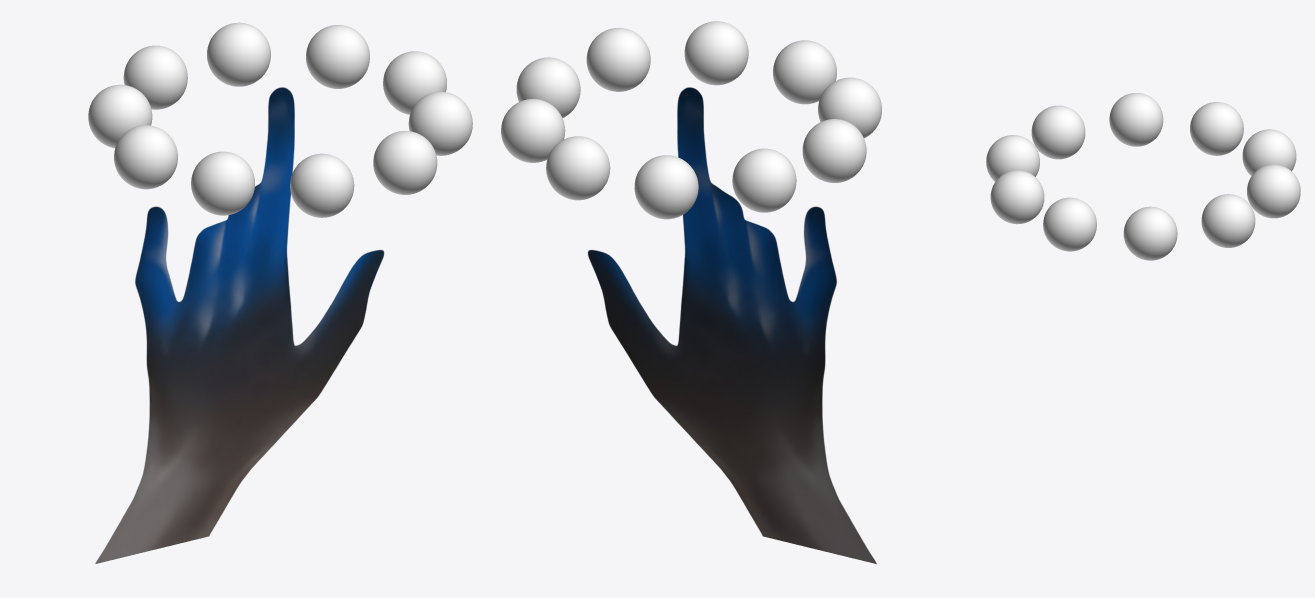
The model's file is stamp2.glb.
The picture shows the model from 3 angles, left to right: view 1: azimuth 30°, elevation 25°; view 2: azimuth 150°, elevation 25°; view 3: azimuth 270°, elevation 25°; orthographic projection. The views are drawn at different scales.
Visible parts, largest first — view 1: 9e0a094d-2dba-4cfd-b0b2-7fcc74c57e31, Sphere_3, Sphere_6, Sphere_4, Sphere_5, Sphere_9, Sphere_10, Sphere_2, Sphere_8, Sphere_7, Sphere_1; view 2: 9e0a094d-2dba-4cfd-b0b2-7fcc74c57e31, Sphere_7, Sphere_8, Sphere_6, Sphere_3, Sphere_9, Sphere_2, Sphere_4, Sphere_10, Sphere_1, Sphere_5; view 3: Sphere_5, Sphere_3, Sphere_1, Sphere_6, Sphere_9, Sphere_2, Sphere_7, Sphere_10, Sphere_4, Sphere_8.
Boxes of the visible parts, x1=… form: 9e0a094d-2dba-4cfd-b0b2-7fcc74c57e31: x1=95, y1=87, x2=384, y2=563; Sphere_3: x1=373, y1=131, x2=437, y2=194; Sphere_6: x1=114, y1=125, x2=177, y2=189; Sphere_4: x1=290, y1=153, x2=354, y2=217; Sphere_5: x1=191, y1=151, x2=254, y2=215; Sphere_9: x1=207, y1=22, x2=270, y2=86; Sphere_10: x1=306, y1=25, x2=369, y2=88; Sphere_2: x1=408, y1=91, x2=472, y2=155; Sphere_8: x1=123, y1=45, x2=187, y2=109; Sphere_7: x1=88, y1=84, x2=152, y2=148; Sphere_1: x1=383, y1=51, x2=446, y2=114; 9e0a094d-2dba-4cfd-b0b2-7fcc74c57e31: x1=588, y1=87, x2=876, y2=563; Sphere_7: x1=732, y1=148, x2=796, y2=212; Sphere_8: x1=634, y1=155, x2=698, y2=219; Sphere_6: x1=802, y1=119, x2=866, y2=182; Sphere_3: x1=684, y1=21, x2=748, y2=85; Sphere_9: x1=546, y1=136, x2=610, y2=200; Sphere_2: x1=586, y1=27, x2=650, y2=91; Sphere_4: x1=773, y1=40, x2=836, y2=104; Sphere_10: x1=501, y1=99, x2=565, y2=162; Sphere_1: x1=516, y1=57, x2=580, y2=117; Sphere_5: x1=818, y1=77, x2=881, y2=138; Sphere_5: x1=1031, y1=105, x2=1085, y2=159; Sphere_3: x1=990, y1=170, x2=1044, y2=224; Sphere_1: x1=1123, y1=206, x2=1177, y2=260; Sphere_6: x1=1109, y1=93, x2=1163, y2=146; Sphere_9: x1=1247, y1=164, x2=1300, y2=218; Sphere_2: x1=1043, y1=197, x2=1096, y2=251; Sphere_7: x1=1190, y1=102, x2=1243, y2=155; Sphere_10: x1=1201, y1=194, x2=1255, y2=247; Sphere_4: x1=986, y1=135, x2=1039, y2=181; Sphere_8: x1=1242, y1=129, x2=1296, y2=175.
Size of the model in its own units: 15.89 by 15.89 by 11.66.
Materials: 11 (1 with a texture image).
